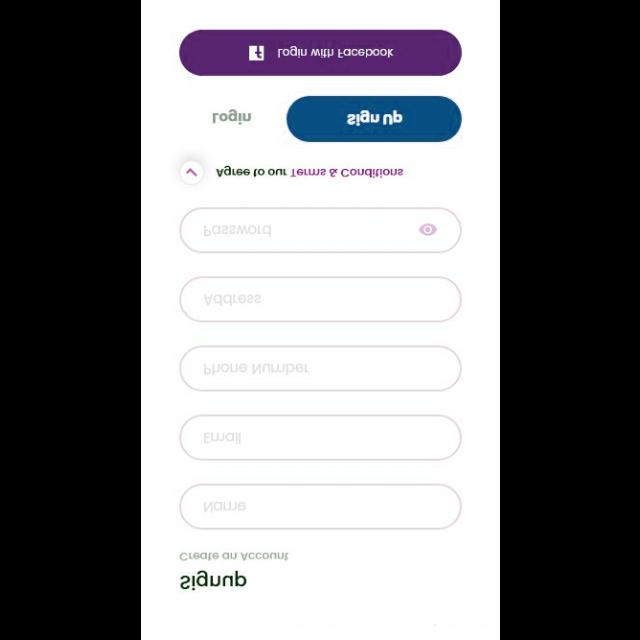checkbox: (178, 160, 202, 186)
icon: (418, 223, 438, 235)
input: (178, 482, 462, 530), (178, 344, 462, 392), (178, 206, 462, 254), (178, 414, 462, 461), (178, 276, 462, 322)
text: (216, 165, 404, 178), (179, 569, 247, 591), (202, 363, 308, 375), (178, 552, 290, 560), (203, 226, 270, 237), (204, 294, 262, 306), (212, 108, 252, 125), (203, 500, 245, 512), (203, 432, 240, 444)
textbutton: (178, 30, 462, 76), (286, 96, 462, 142)
